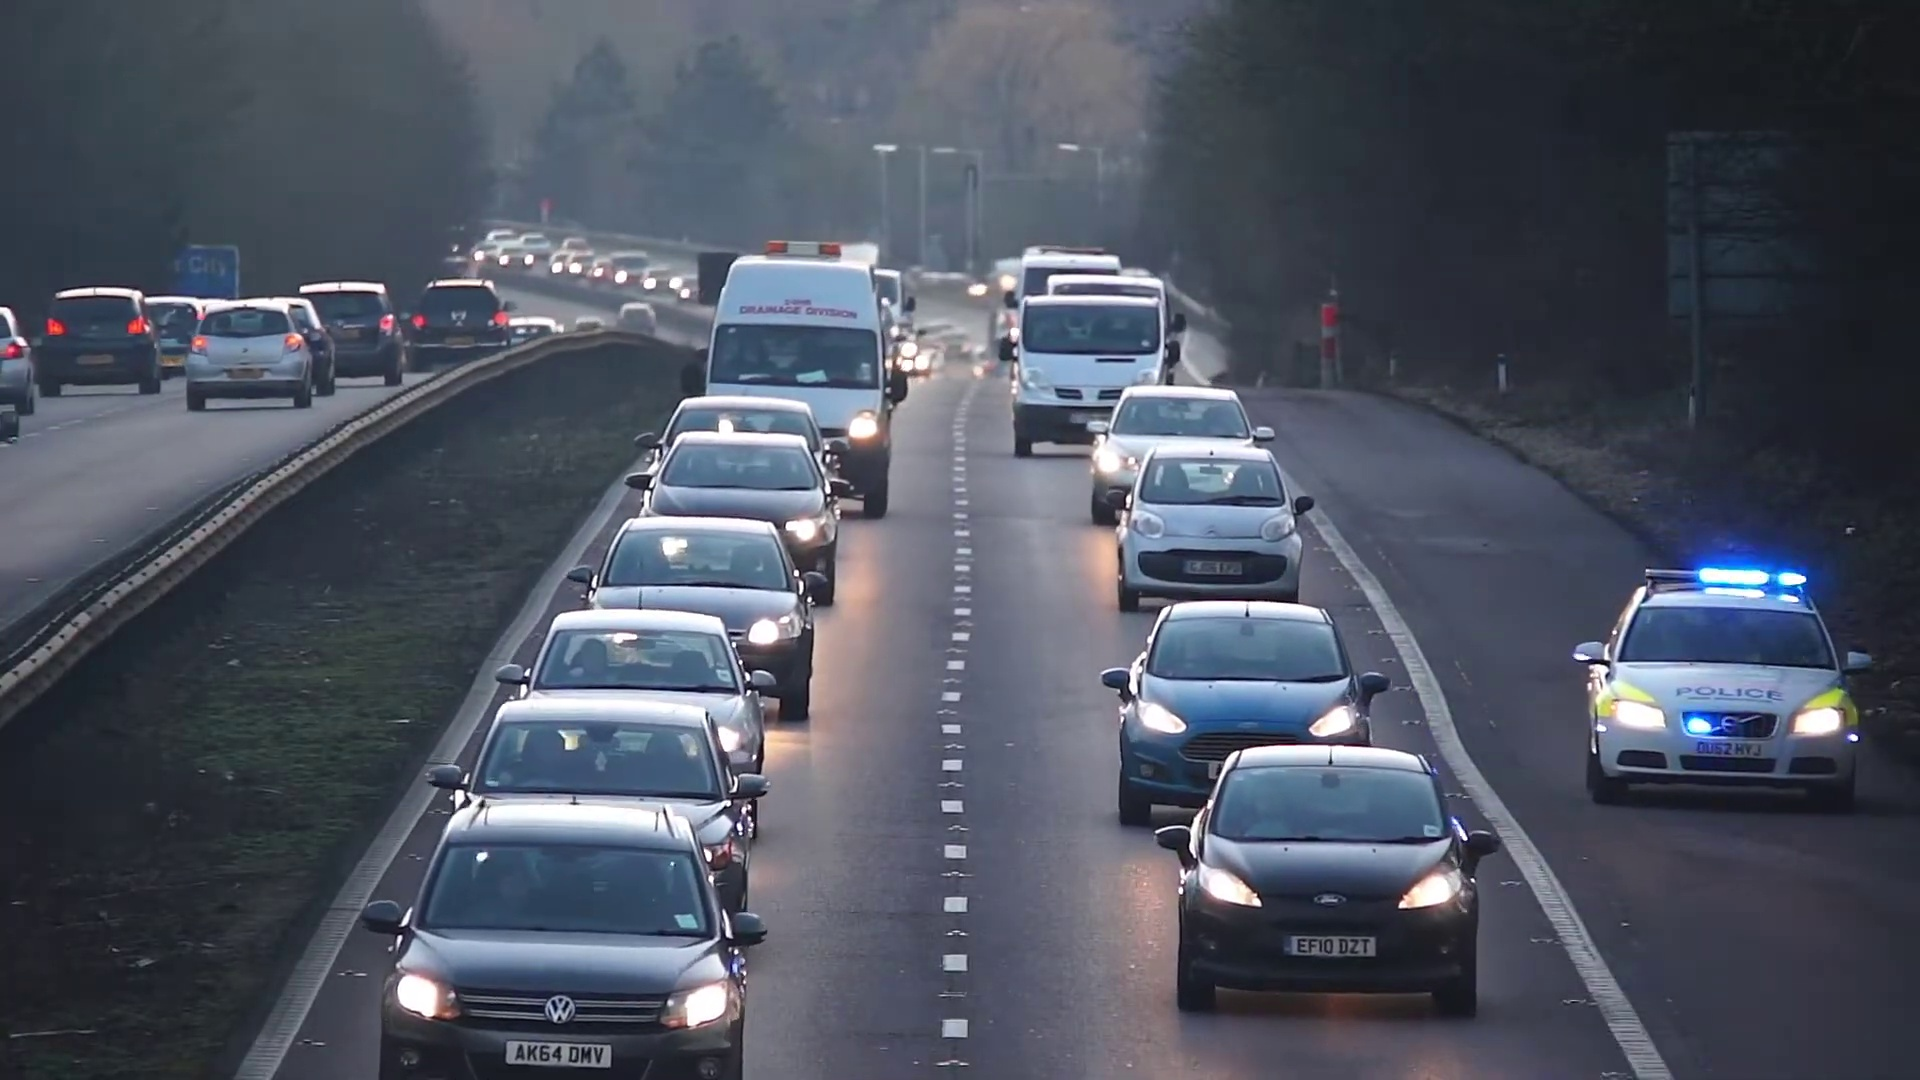license_plate: (505, 1039, 609, 1069), (1282, 935, 1376, 957), (1690, 740, 1769, 761)
